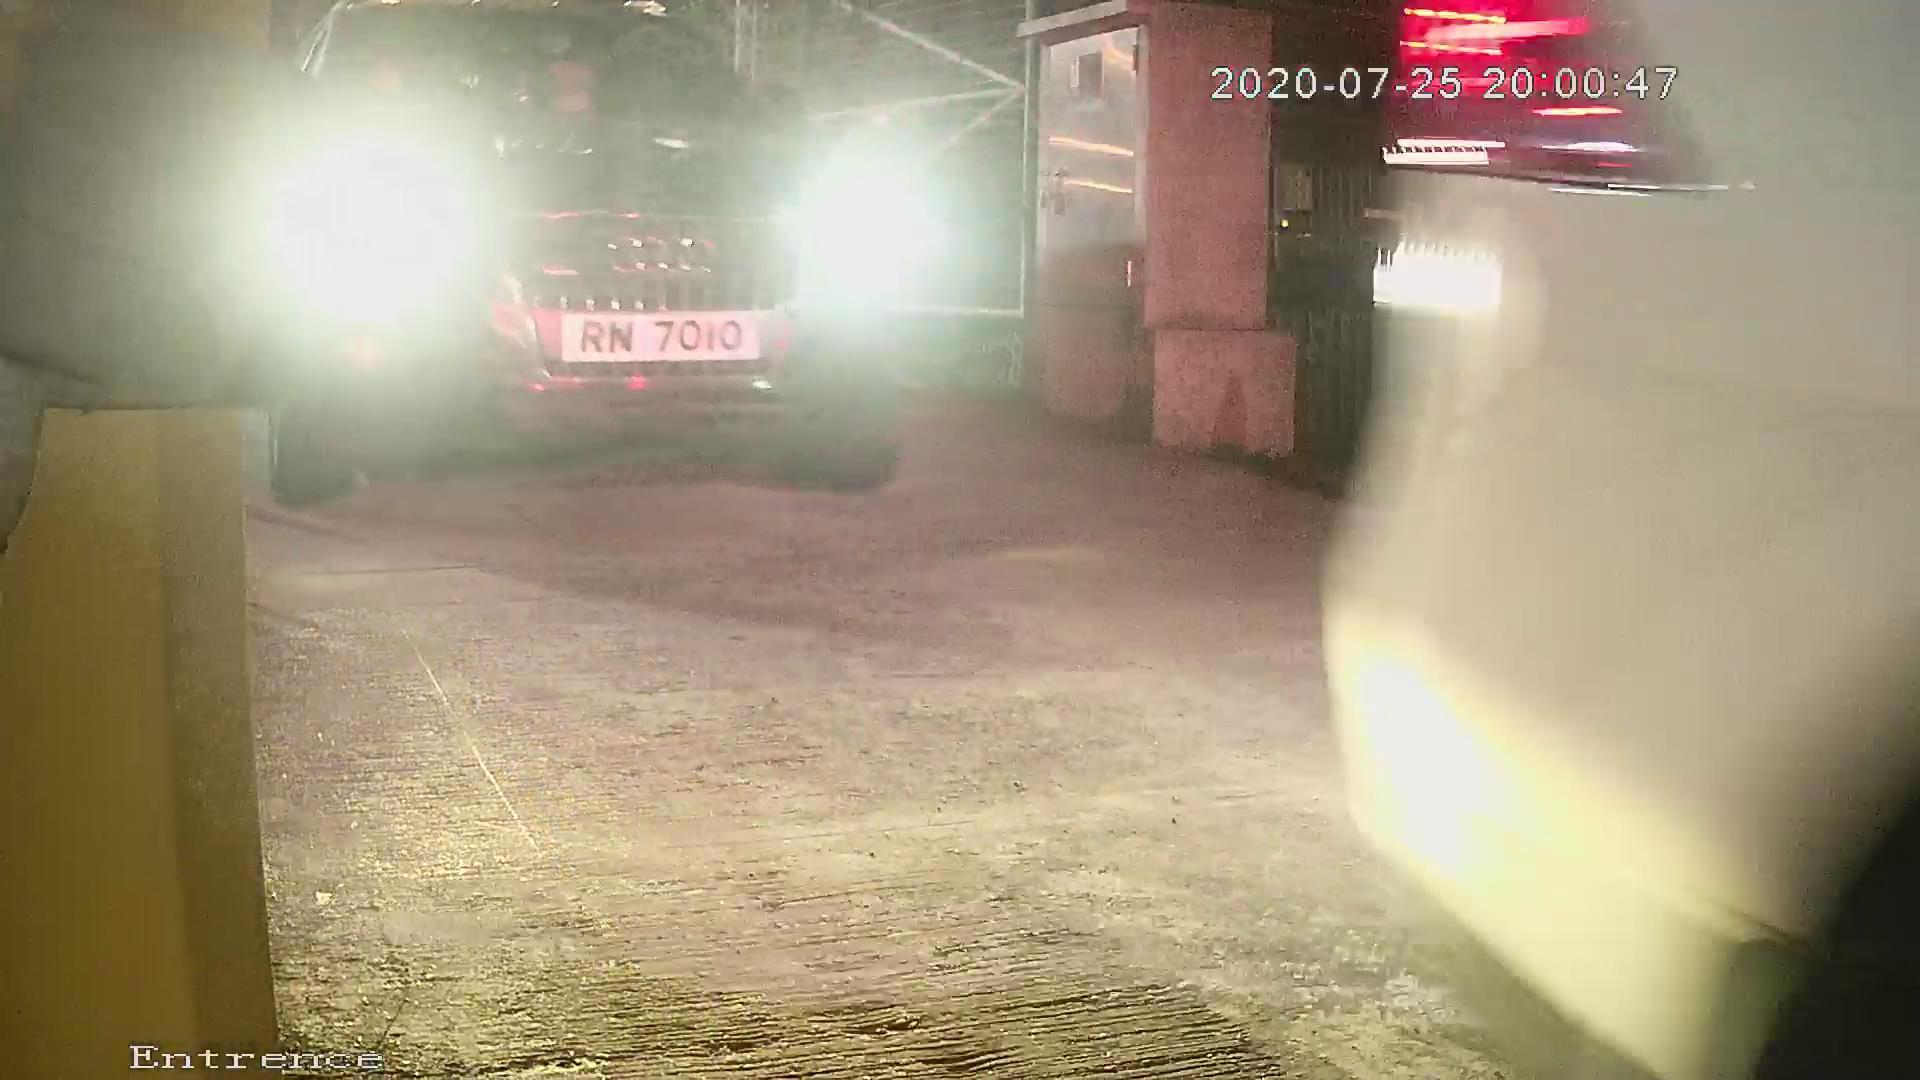privatecar: (146, 1, 1149, 564)
